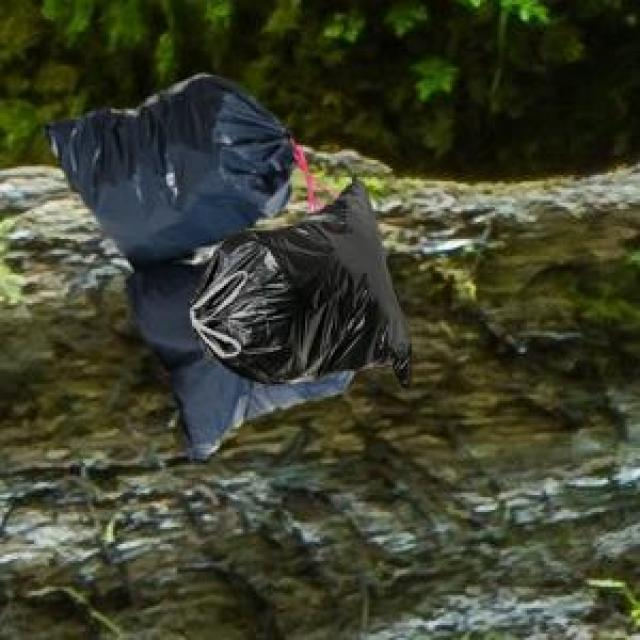Vinyl: (49, 74, 410, 459)
